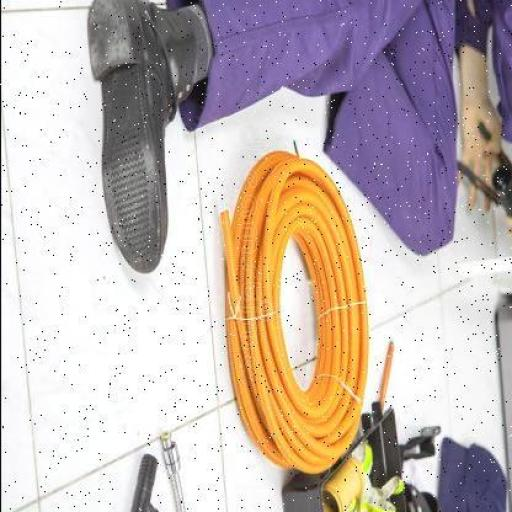safety_shoe: (74, 0, 194, 278)
